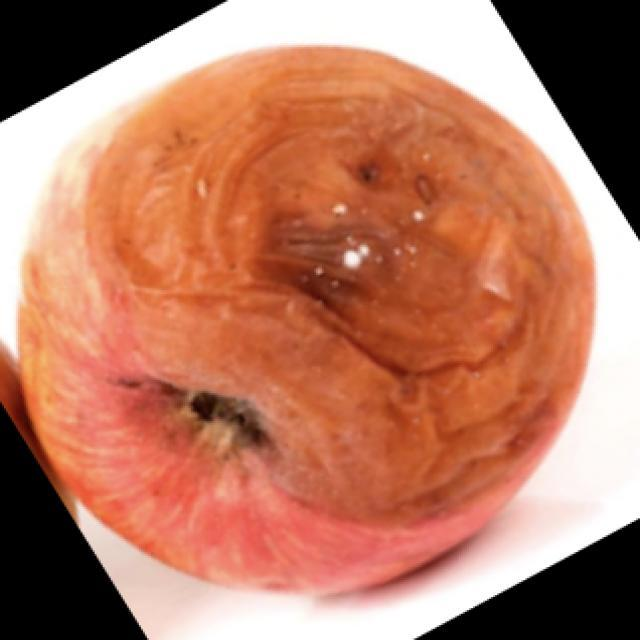Rotten: (12, 36, 590, 606)
